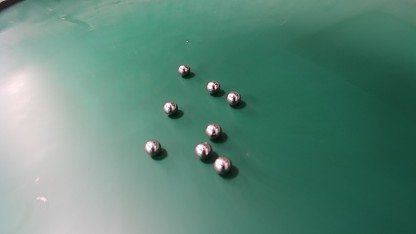ironball: (213, 156, 231, 174), (194, 142, 212, 159), (205, 123, 221, 139), (144, 140, 160, 156), (163, 101, 178, 115), (226, 91, 240, 105), (206, 81, 220, 94), (178, 64, 190, 76)
